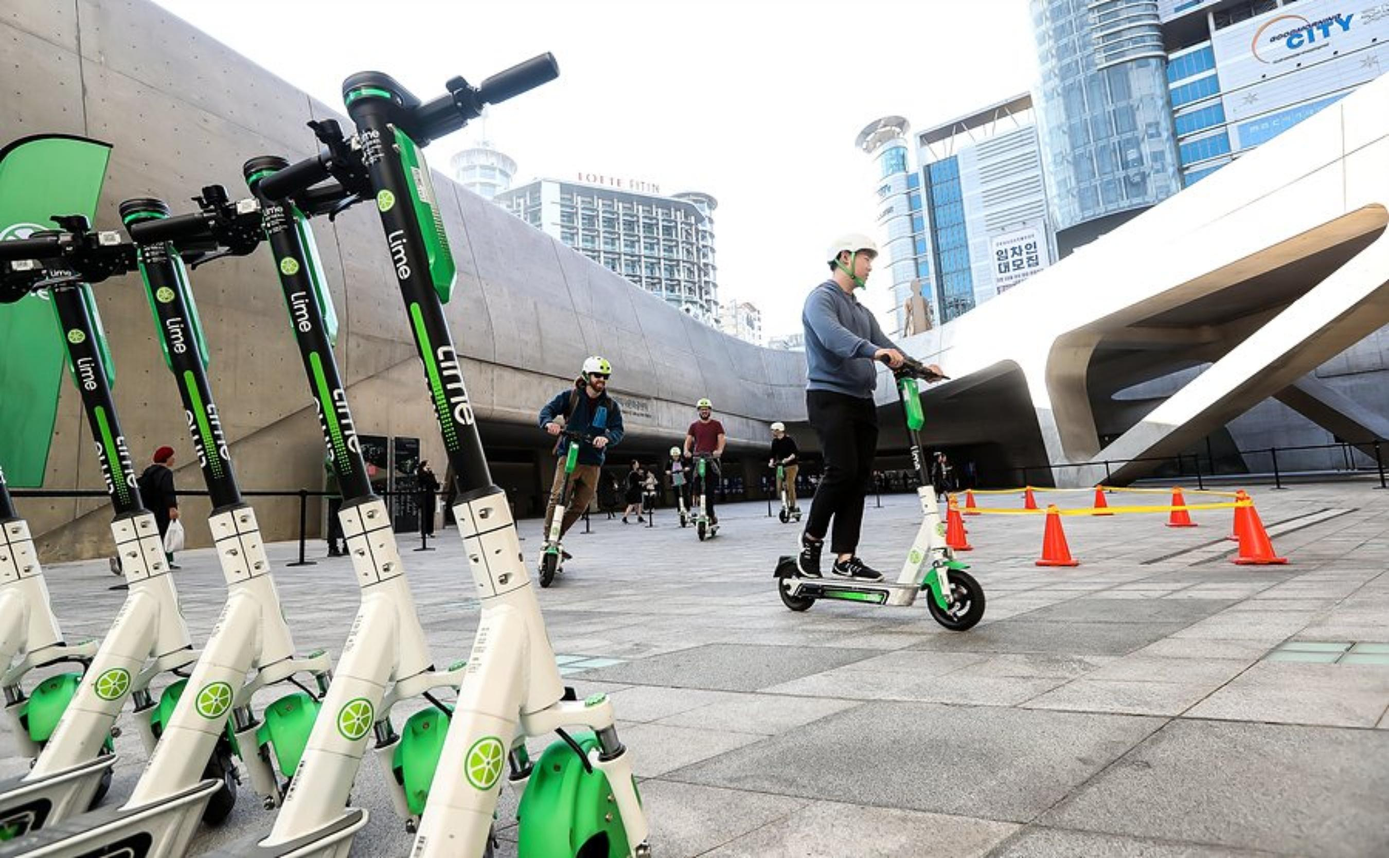helmet: (804, 218, 893, 291), (561, 348, 618, 396), (686, 393, 729, 428)
human: (805, 217, 944, 572), (532, 352, 622, 532), (688, 394, 726, 488)
kickboard: (763, 544, 985, 623), (537, 527, 571, 588), (688, 496, 722, 542)
